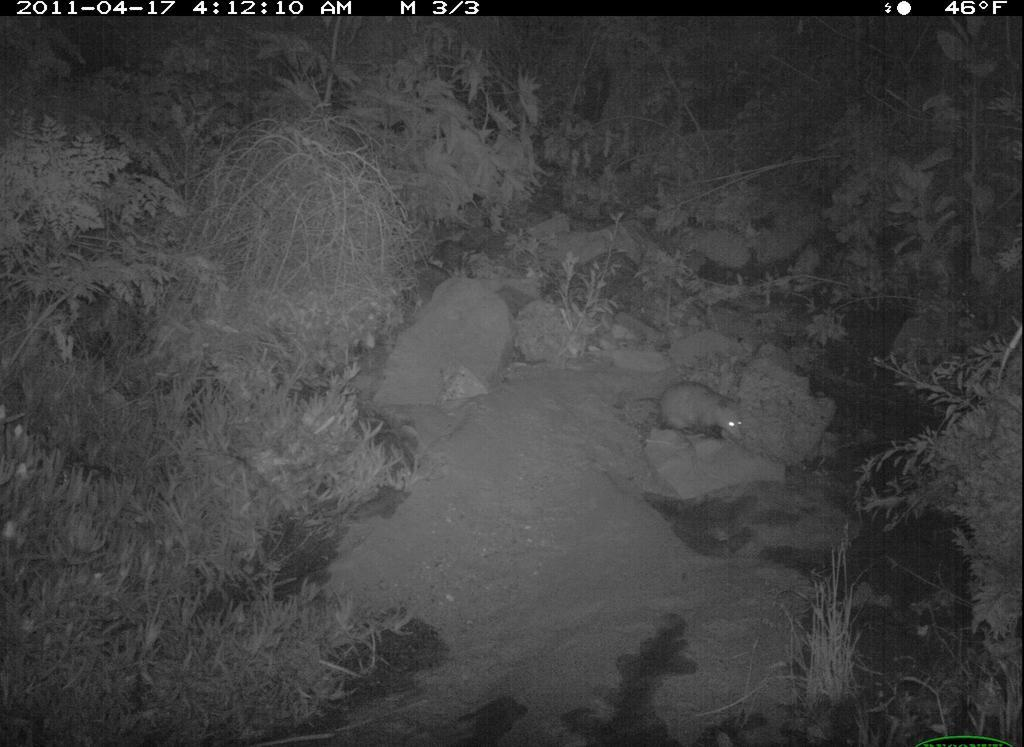opossum: (616, 372, 771, 479)
